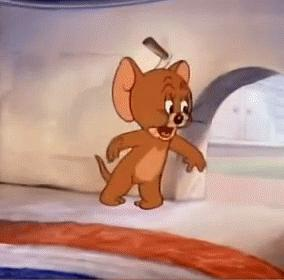jerry: (94, 56, 207, 210)
